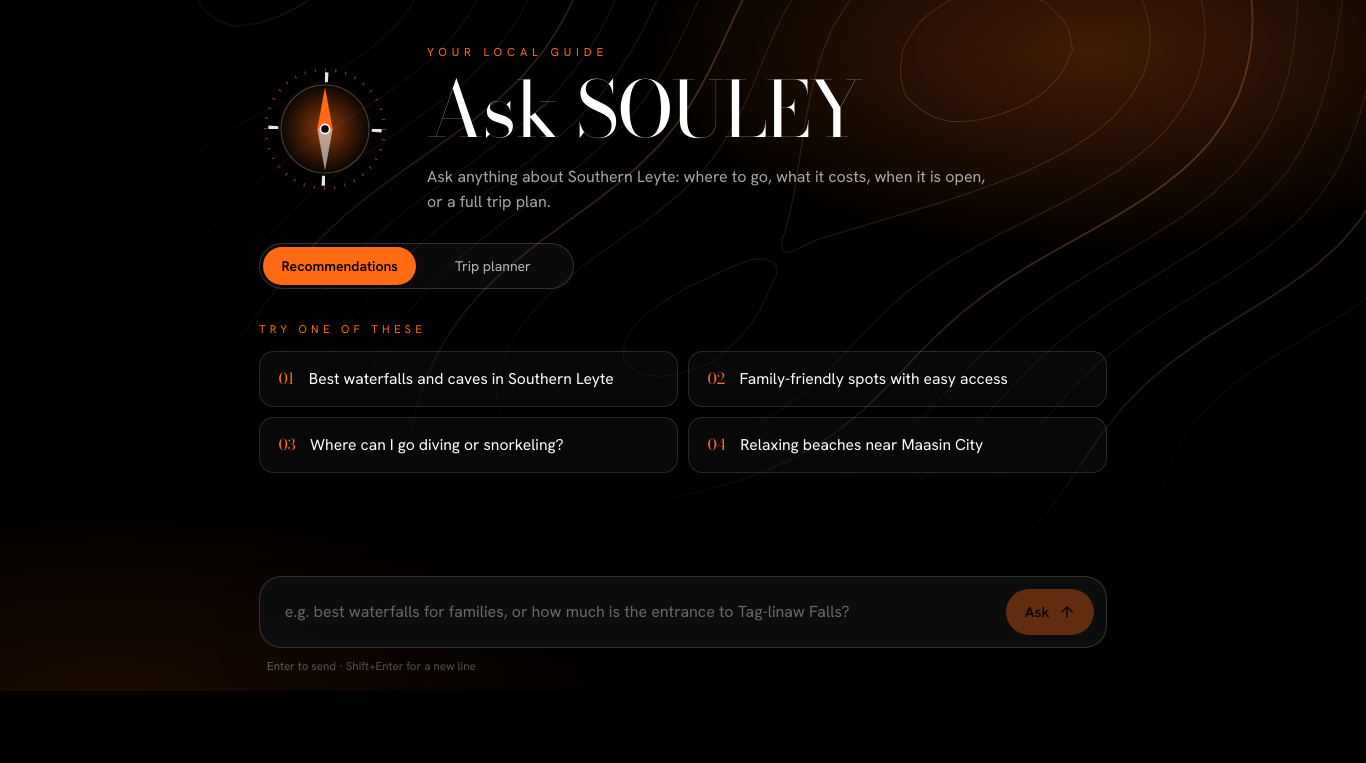
Test case: Ask page › shows what was understood and next questions to try; a suggestion is asked straight away and replaces the fixed chips
The image size is (1366, 763).
Later steps or results of the test are not shown.
In the text box named "your question": [633, 612] box [272, 590, 994, 635], type "waterfalls"
Then press Enter
(page scrolled)
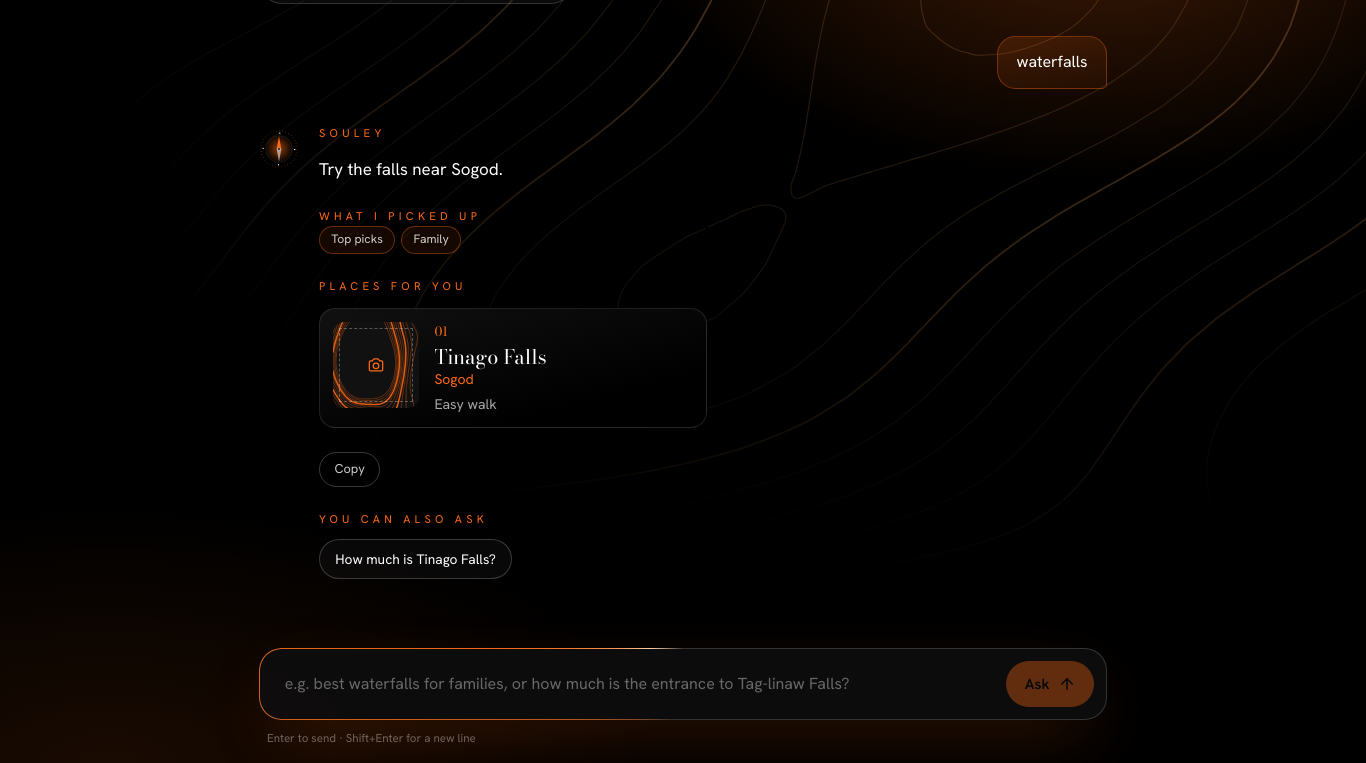
Check: the list item "Family" is shown, box [401, 226, 461, 254]
Check: the list item "Top picks" is shown, box [319, 226, 395, 254]
